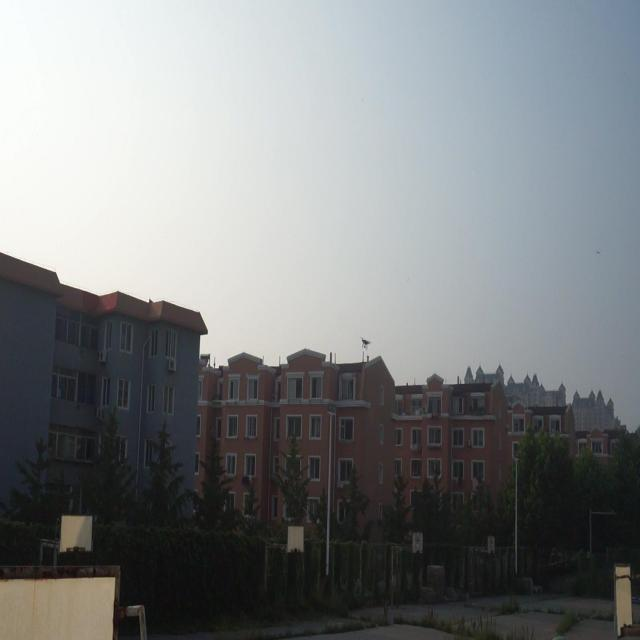UAV: (360, 336, 372, 351)
